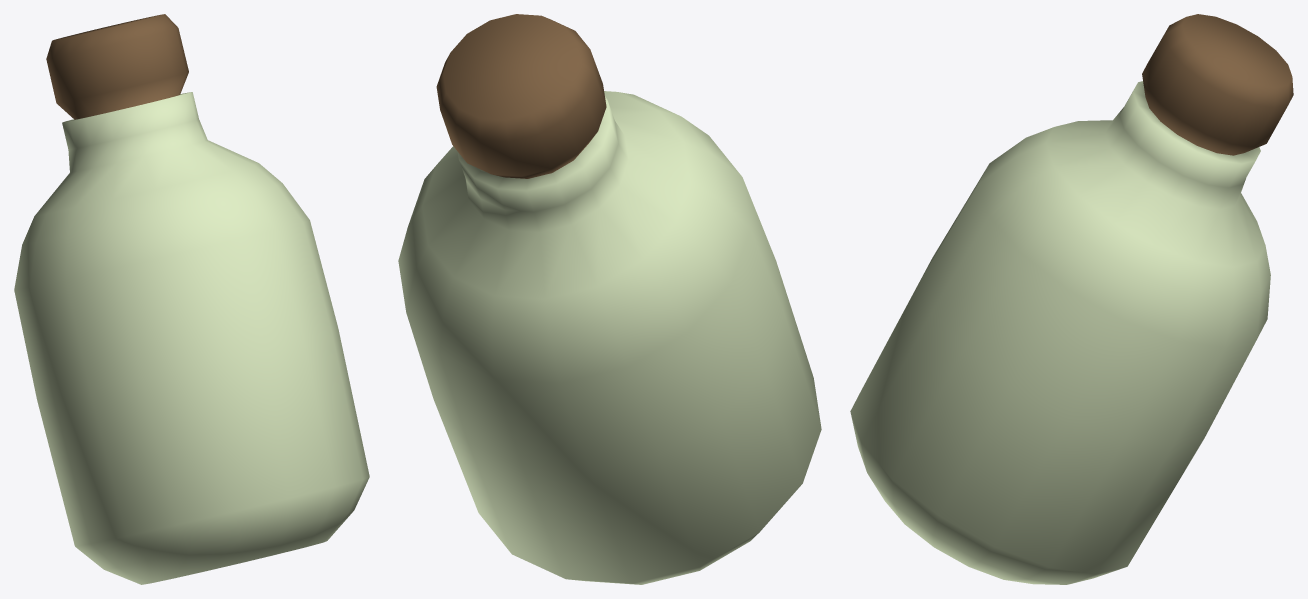
The model's file is tea bottle green.fbx.
The picture shows the model from 3 angles, left to right: view 1: azimuth 30°, elevation 25°; view 2: azimuth 150°, elevation 25°; view 3: azimuth 270°, elevation 25°; orthographic projection. The views are drawn at different scales.
Parts seen in each view (by area): view 1: botlle; view 2: botlle; view 3: botlle.
Part boxes in pixels (x1,y1,x2,y2): botlle: [14, 14, 369, 584]; botlle: [398, 14, 821, 584]; botlle: [850, 14, 1293, 584].
Bounding box in the file's own units: 60.18 × 108 × 80.53.
